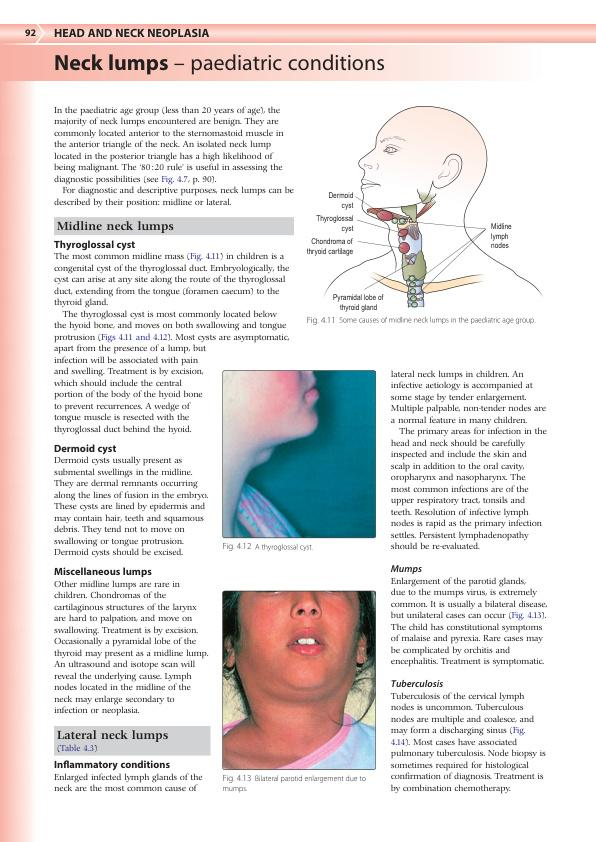caption: (222, 774, 367, 794), (306, 315, 536, 326), (221, 542, 314, 553)
chapter-heading: (53, 52, 386, 76)
header: (53, 28, 210, 38)
image: (305, 102, 548, 314), (221, 590, 376, 771), (221, 368, 377, 539)
section-heading: (56, 729, 170, 754), (56, 219, 175, 234)
sub-section-heading: (53, 759, 172, 771), (54, 566, 152, 578), (52, 239, 138, 251), (53, 442, 118, 455), (389, 678, 444, 688), (389, 563, 423, 575)
text: (389, 368, 549, 551), (52, 252, 291, 365), (52, 104, 296, 208), (53, 579, 210, 717), (390, 691, 546, 796), (53, 455, 209, 559), (390, 576, 549, 668), (53, 366, 205, 435), (54, 772, 204, 793)
